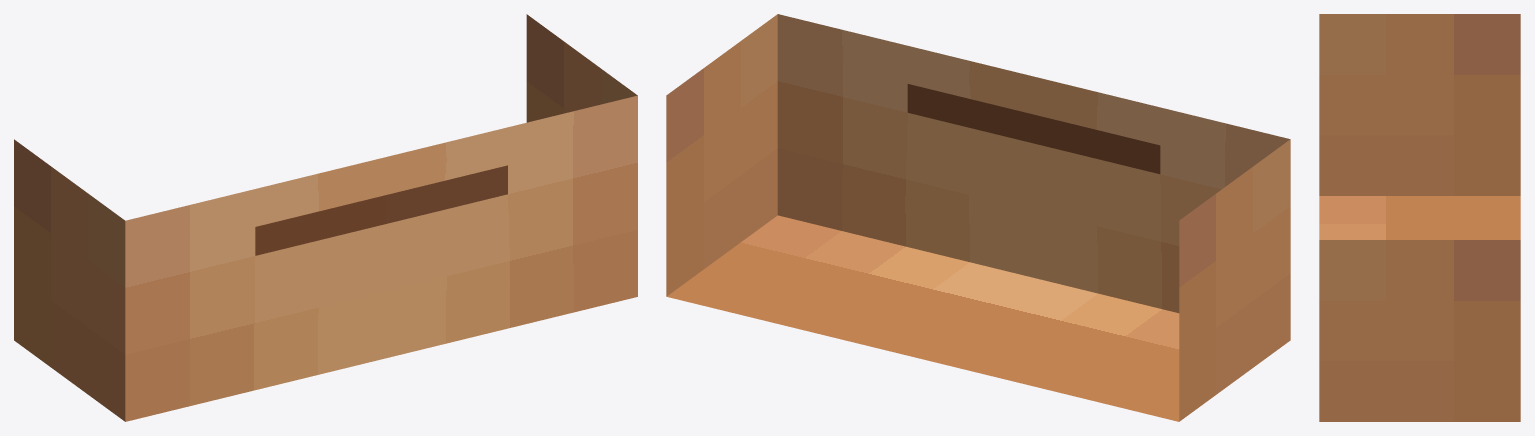
The model's file is skM1_jesse_mouthHappyC.glb.
The picture shows the model from 3 angles, left to right: view 1: azimuth 30°, elevation 25°; view 2: azimuth 150°, elevation 25°; view 3: azimuth 270°, elevation 25°; orthographic projection. The views are drawn at different scales.
Visible parts, largest first — view 1: skM1_jesse; view 2: skM1_jesse; view 3: skM1_jesse.
Part boxes in pixels (x1,y1,x2,y2): skM1_jesse: (14, 14, 637, 421); skM1_jesse: (666, 14, 1290, 421); skM1_jesse: (1319, 14, 1520, 421).
Bounding box in the file's own units: 0.5012 × 0.1883 × 0.1885.
Materials: 1 (1 with a texture image).
